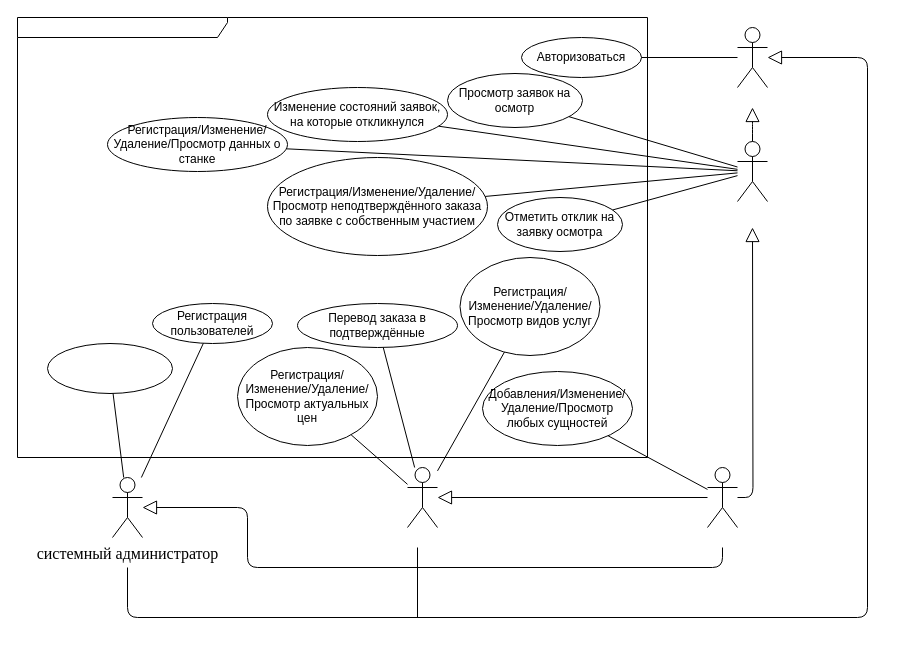
Some shapes in this 899 by 649 pixel diagram are drawn without their labels. The box of each missing label's shape, as (x1, y1, x2, y2) in pixels:
Бухгалтер: (406, 466, 438, 528)
Десктопное приложение: (16, 16, 648, 458)
Директор: (706, 466, 738, 528)
Изменения паролей пользователей: (46, 342, 172, 394)
Мастер: (736, 140, 768, 202)
неавторизованный пользователь: (736, 26, 768, 88)
